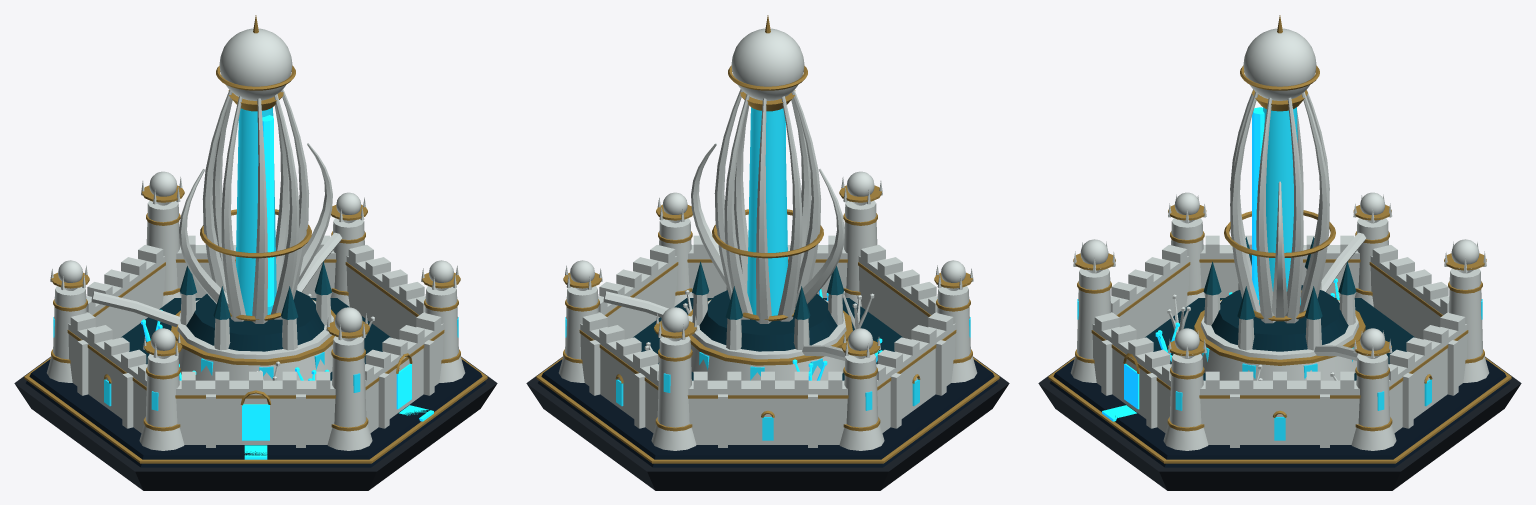
File: poseidon_ability_tidewell.glb
3 views of the same model, side by side, from view 1: azimuth 30°, elevation 25°; view 2: azimuth 150°, elevation 25°; view 3: azimuth 270°, elevation 25° (orthographic).
Visible parts, largest first — view 1: poseidon_ability_tidewell; view 2: poseidon_ability_tidewell; view 3: poseidon_ability_tidewell.
Boxes of the visible parts, x1,y1,x2,y2 form: poseidon_ability_tidewell: (14, 15, 497, 490); poseidon_ability_tidewell: (526, 15, 1009, 490); poseidon_ability_tidewell: (1038, 15, 1521, 490).
Bounding box in the file's own units: 1.49 × 1.55 × 1.72.
1 material, 1 textured.
